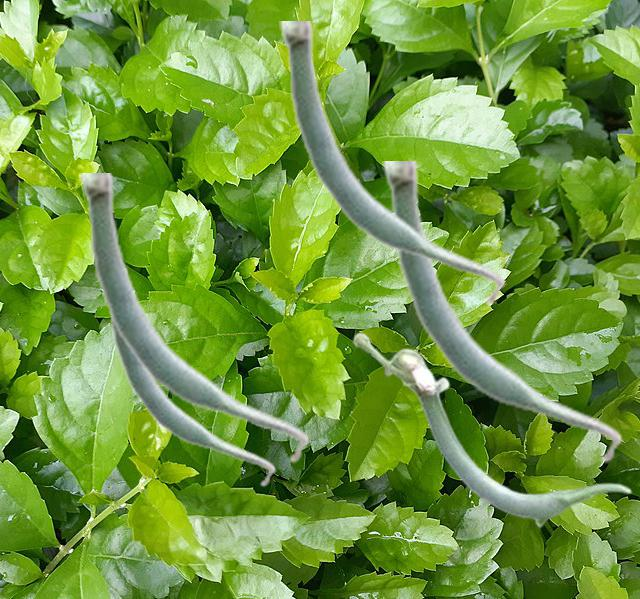french_bean: (382, 161, 622, 464), (79, 173, 309, 464), (279, 21, 505, 306), (352, 331, 631, 527), (106, 268, 275, 487)
